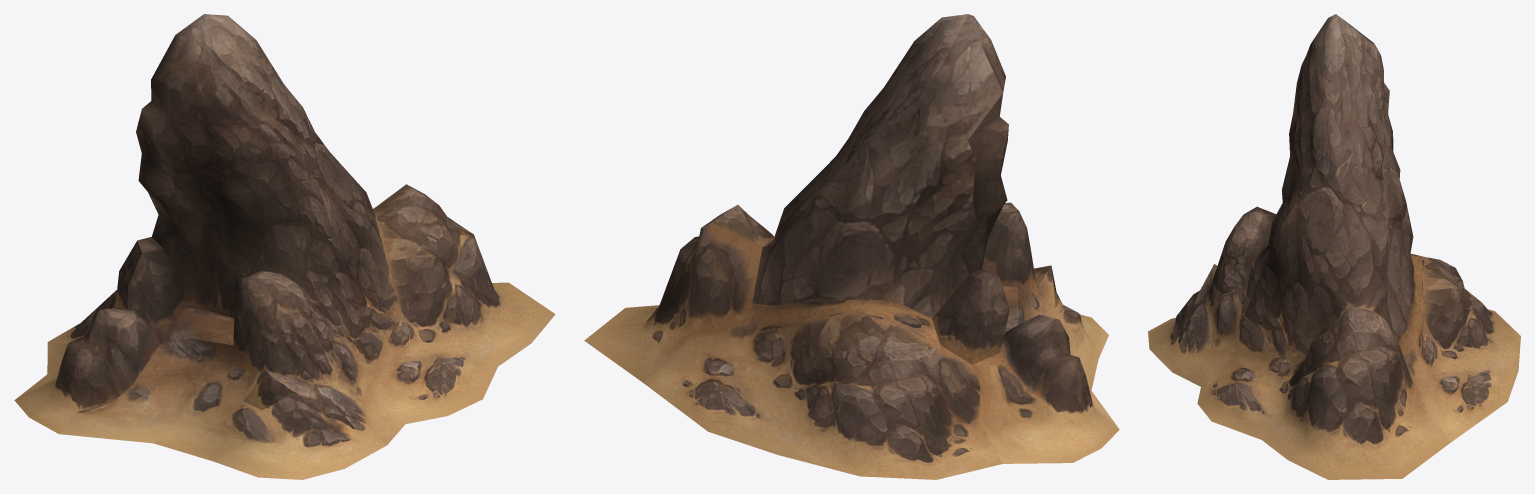
Rendered from xsm_shitou_3.FBX.
3 views of the same model, side by side, from view 1: azimuth 30°, elevation 25°; view 2: azimuth 150°, elevation 25°; view 3: azimuth 270°, elevation 25° (orthographic). The views are drawn at different scales.
Visible parts, largest first — view 1: xsm_shitou_3; view 2: xsm_shitou_3; view 3: xsm_shitou_3.
Part boxes in pixels (x1,y1,x2,y2): xsm_shitou_3: [14, 14, 555, 479]; xsm_shitou_3: [584, 14, 1119, 479]; xsm_shitou_3: [1148, 14, 1520, 479].
Bounding box in the file's own units: 333 × 242 × 254.
